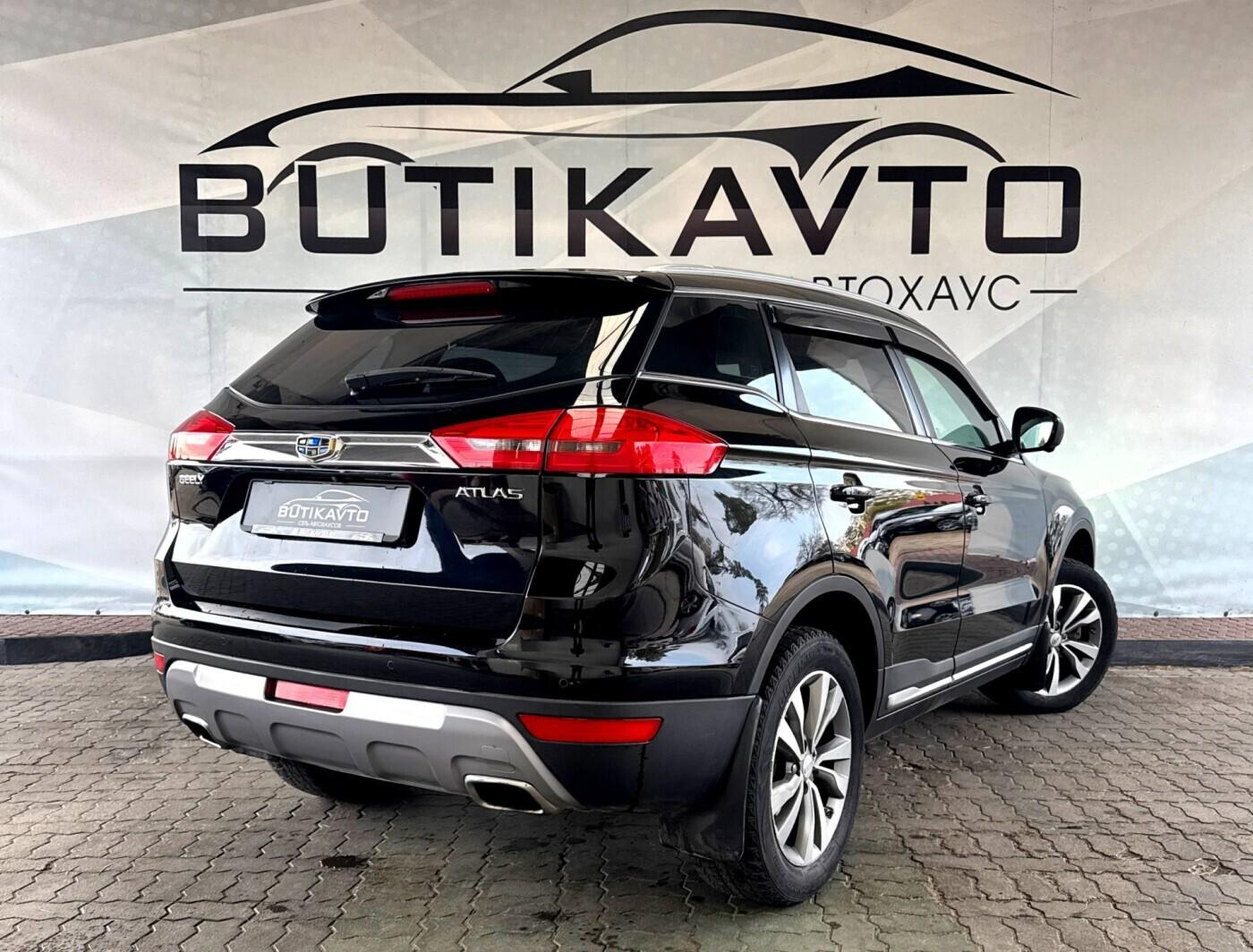Atlas_2016-2023: (142, 263, 1124, 911)
